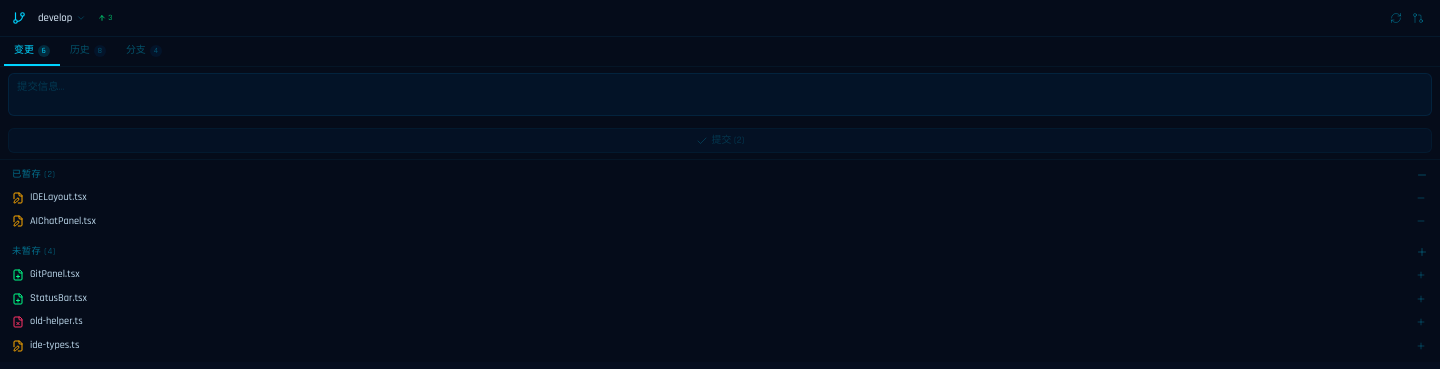
Test: GitPanel › 变更管理 › 全部暂存后未暂存分组消失
Click the button without text in the row of "未暂存" at (1422, 252), box [1416,246,1428,258]
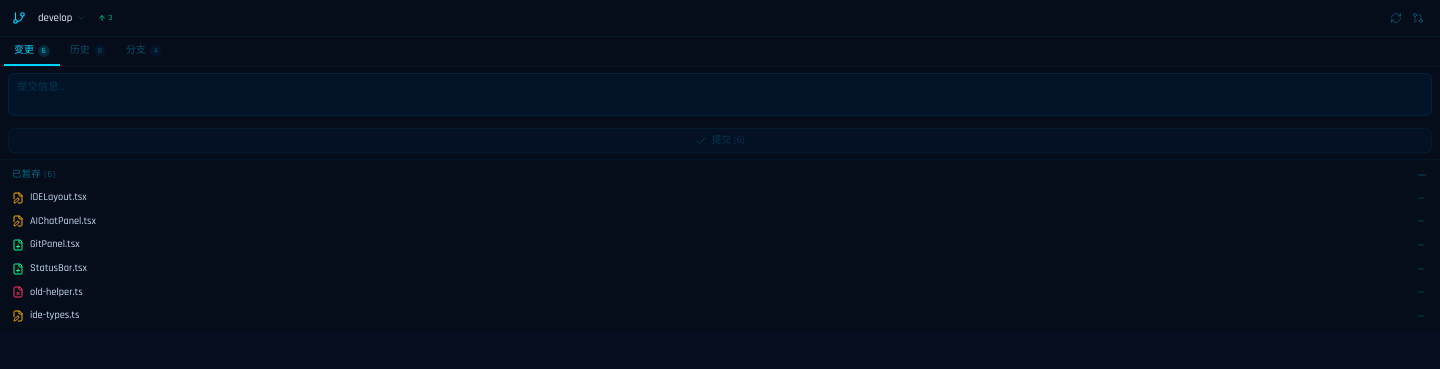
Expected: the text "已暂存 (6)" is shown, [12,168,56,182]
Now the text "未暂存" is gone
